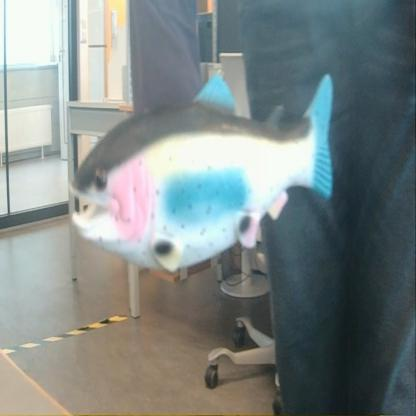rubberfish: (67, 67, 340, 280)
